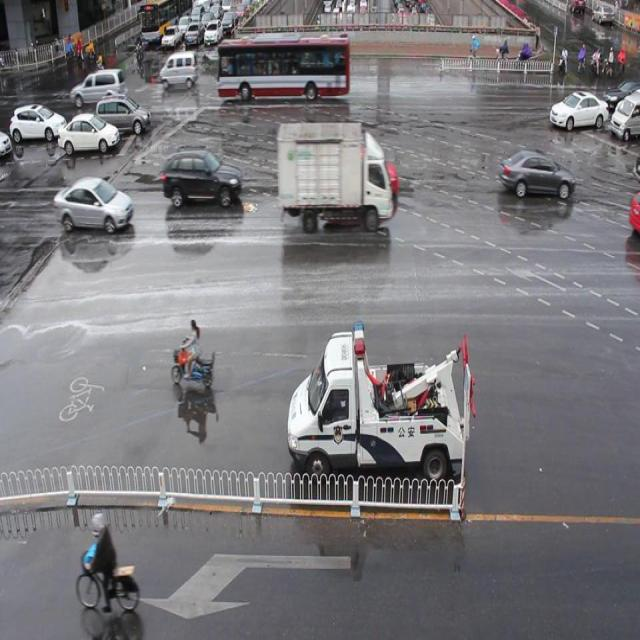bus: (276, 121, 391, 229)
car: (163, 149, 241, 208), (55, 177, 133, 234), (320, 148, 398, 198), (498, 148, 574, 198), (548, 89, 607, 131)
van: (218, 38, 350, 101)
